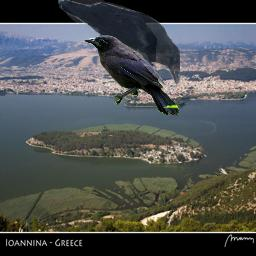Crow: (58, 0, 180, 84), (84, 35, 180, 116)
